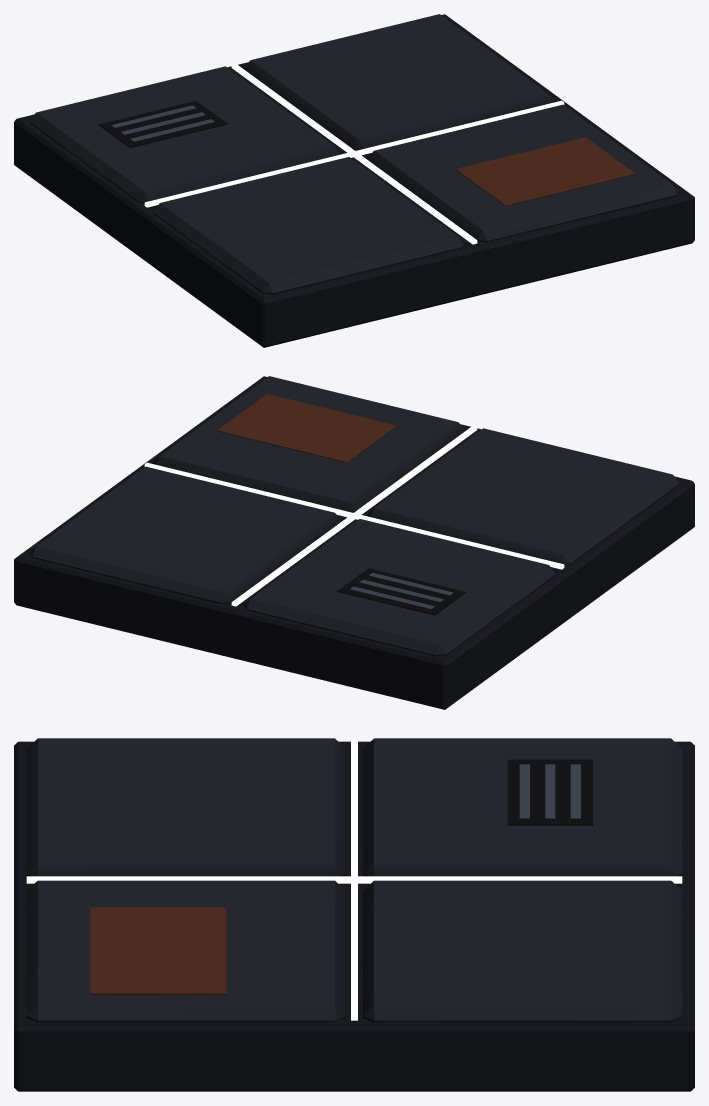
Rendered from FloorTile.glb.
3 views of the same model, one above another, from view 1: azimuth 30°, elevation 25°; view 2: azimuth 150°, elevation 25°; view 3: azimuth 270°, elevation 25° (orthographic). The views are drawn at different scales.
Parts seen in each view (by area): view 1: Body, Groove_Glow; view 2: Body, Groove_Glow; view 3: Body, Groove_Glow.
Boxes of the visible parts, box(x1,y1,x2,y2) form: Body: box(14, 14, 694, 347); Groove_Glow: box(144, 64, 564, 244); Body: box(14, 376, 694, 709); Groove_Glow: box(144, 426, 564, 606); Body: box(14, 738, 694, 1091); Groove_Glow: box(26, 739, 682, 1020).
Size of the model in its own units: 8 by 1.02 by 8.
